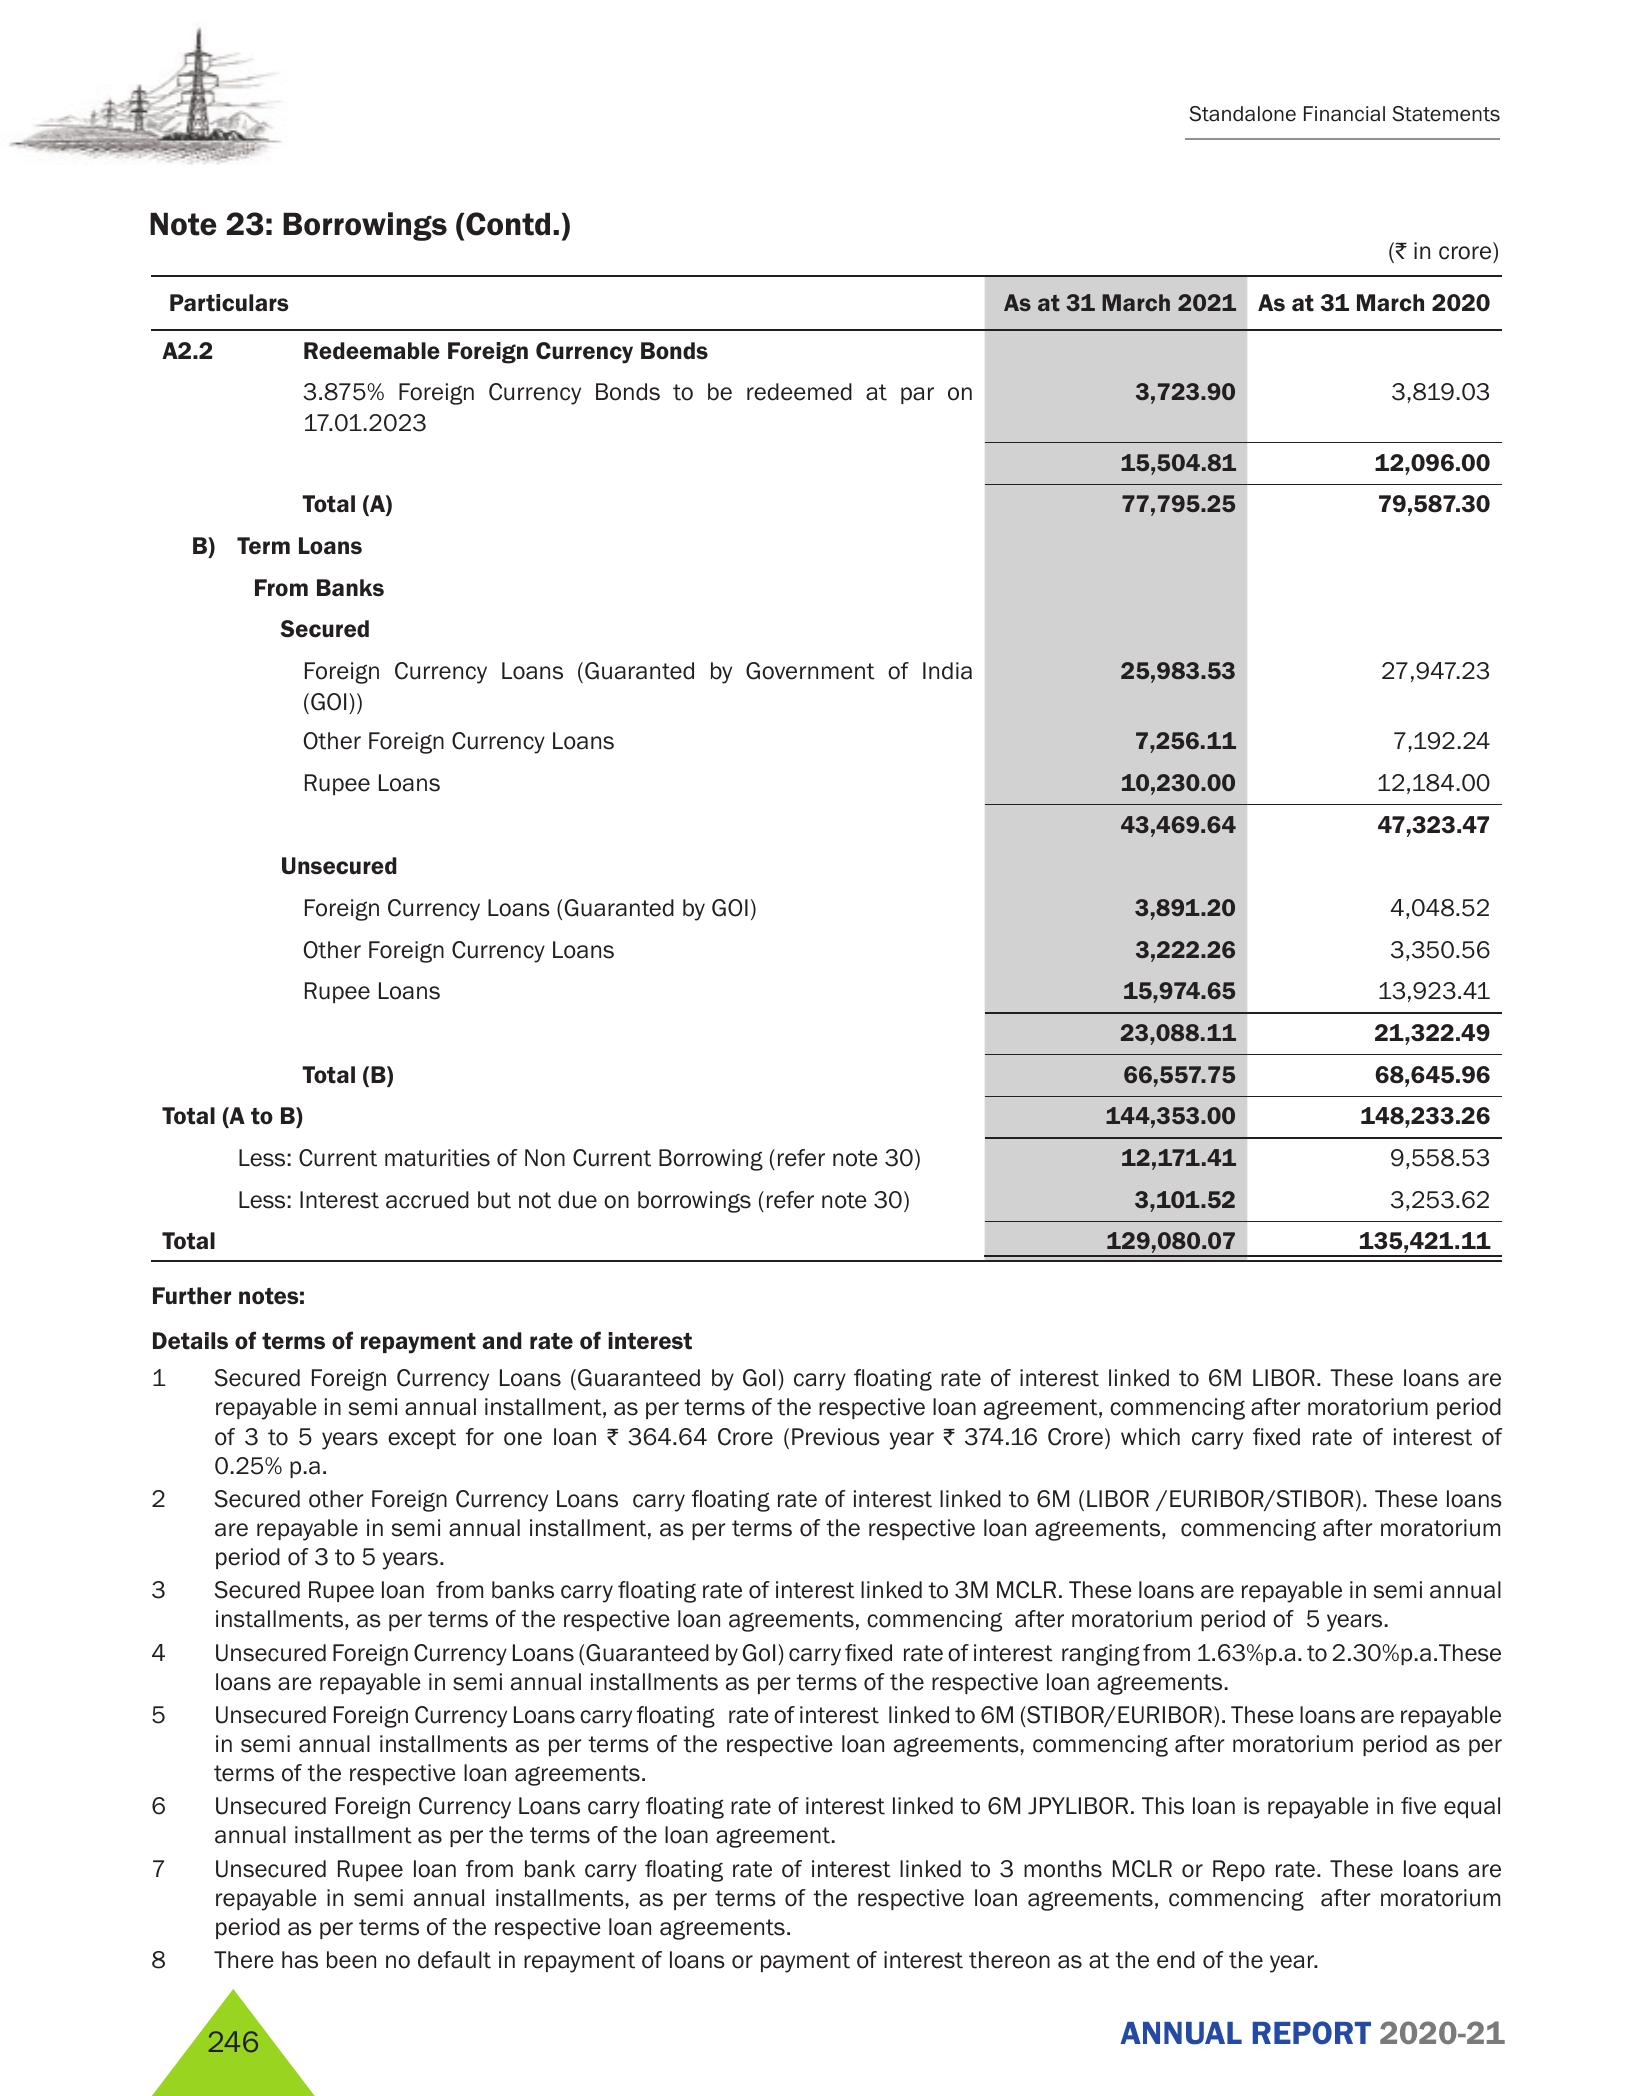Footer: (0, 1979, 1650, 2096)
Header: (0, 0, 1650, 184)
Table: (102, 242, 1504, 1267)
